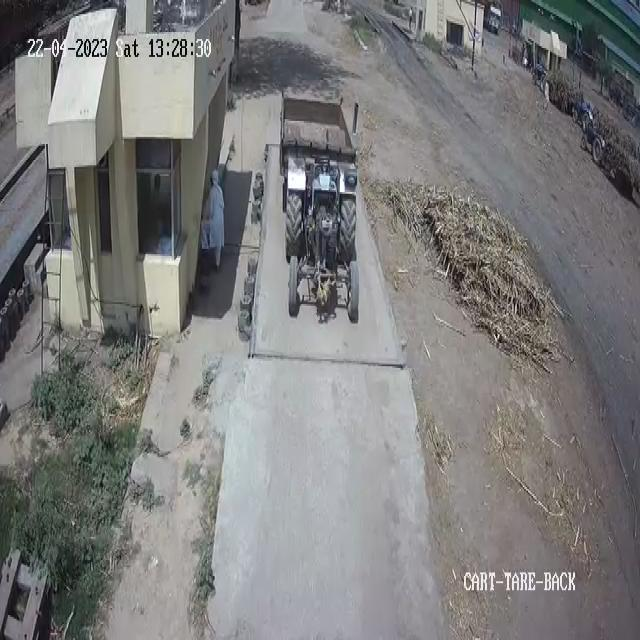Tratores - v5 YOLO V8L 2024-11-13: (281, 154, 362, 338)
